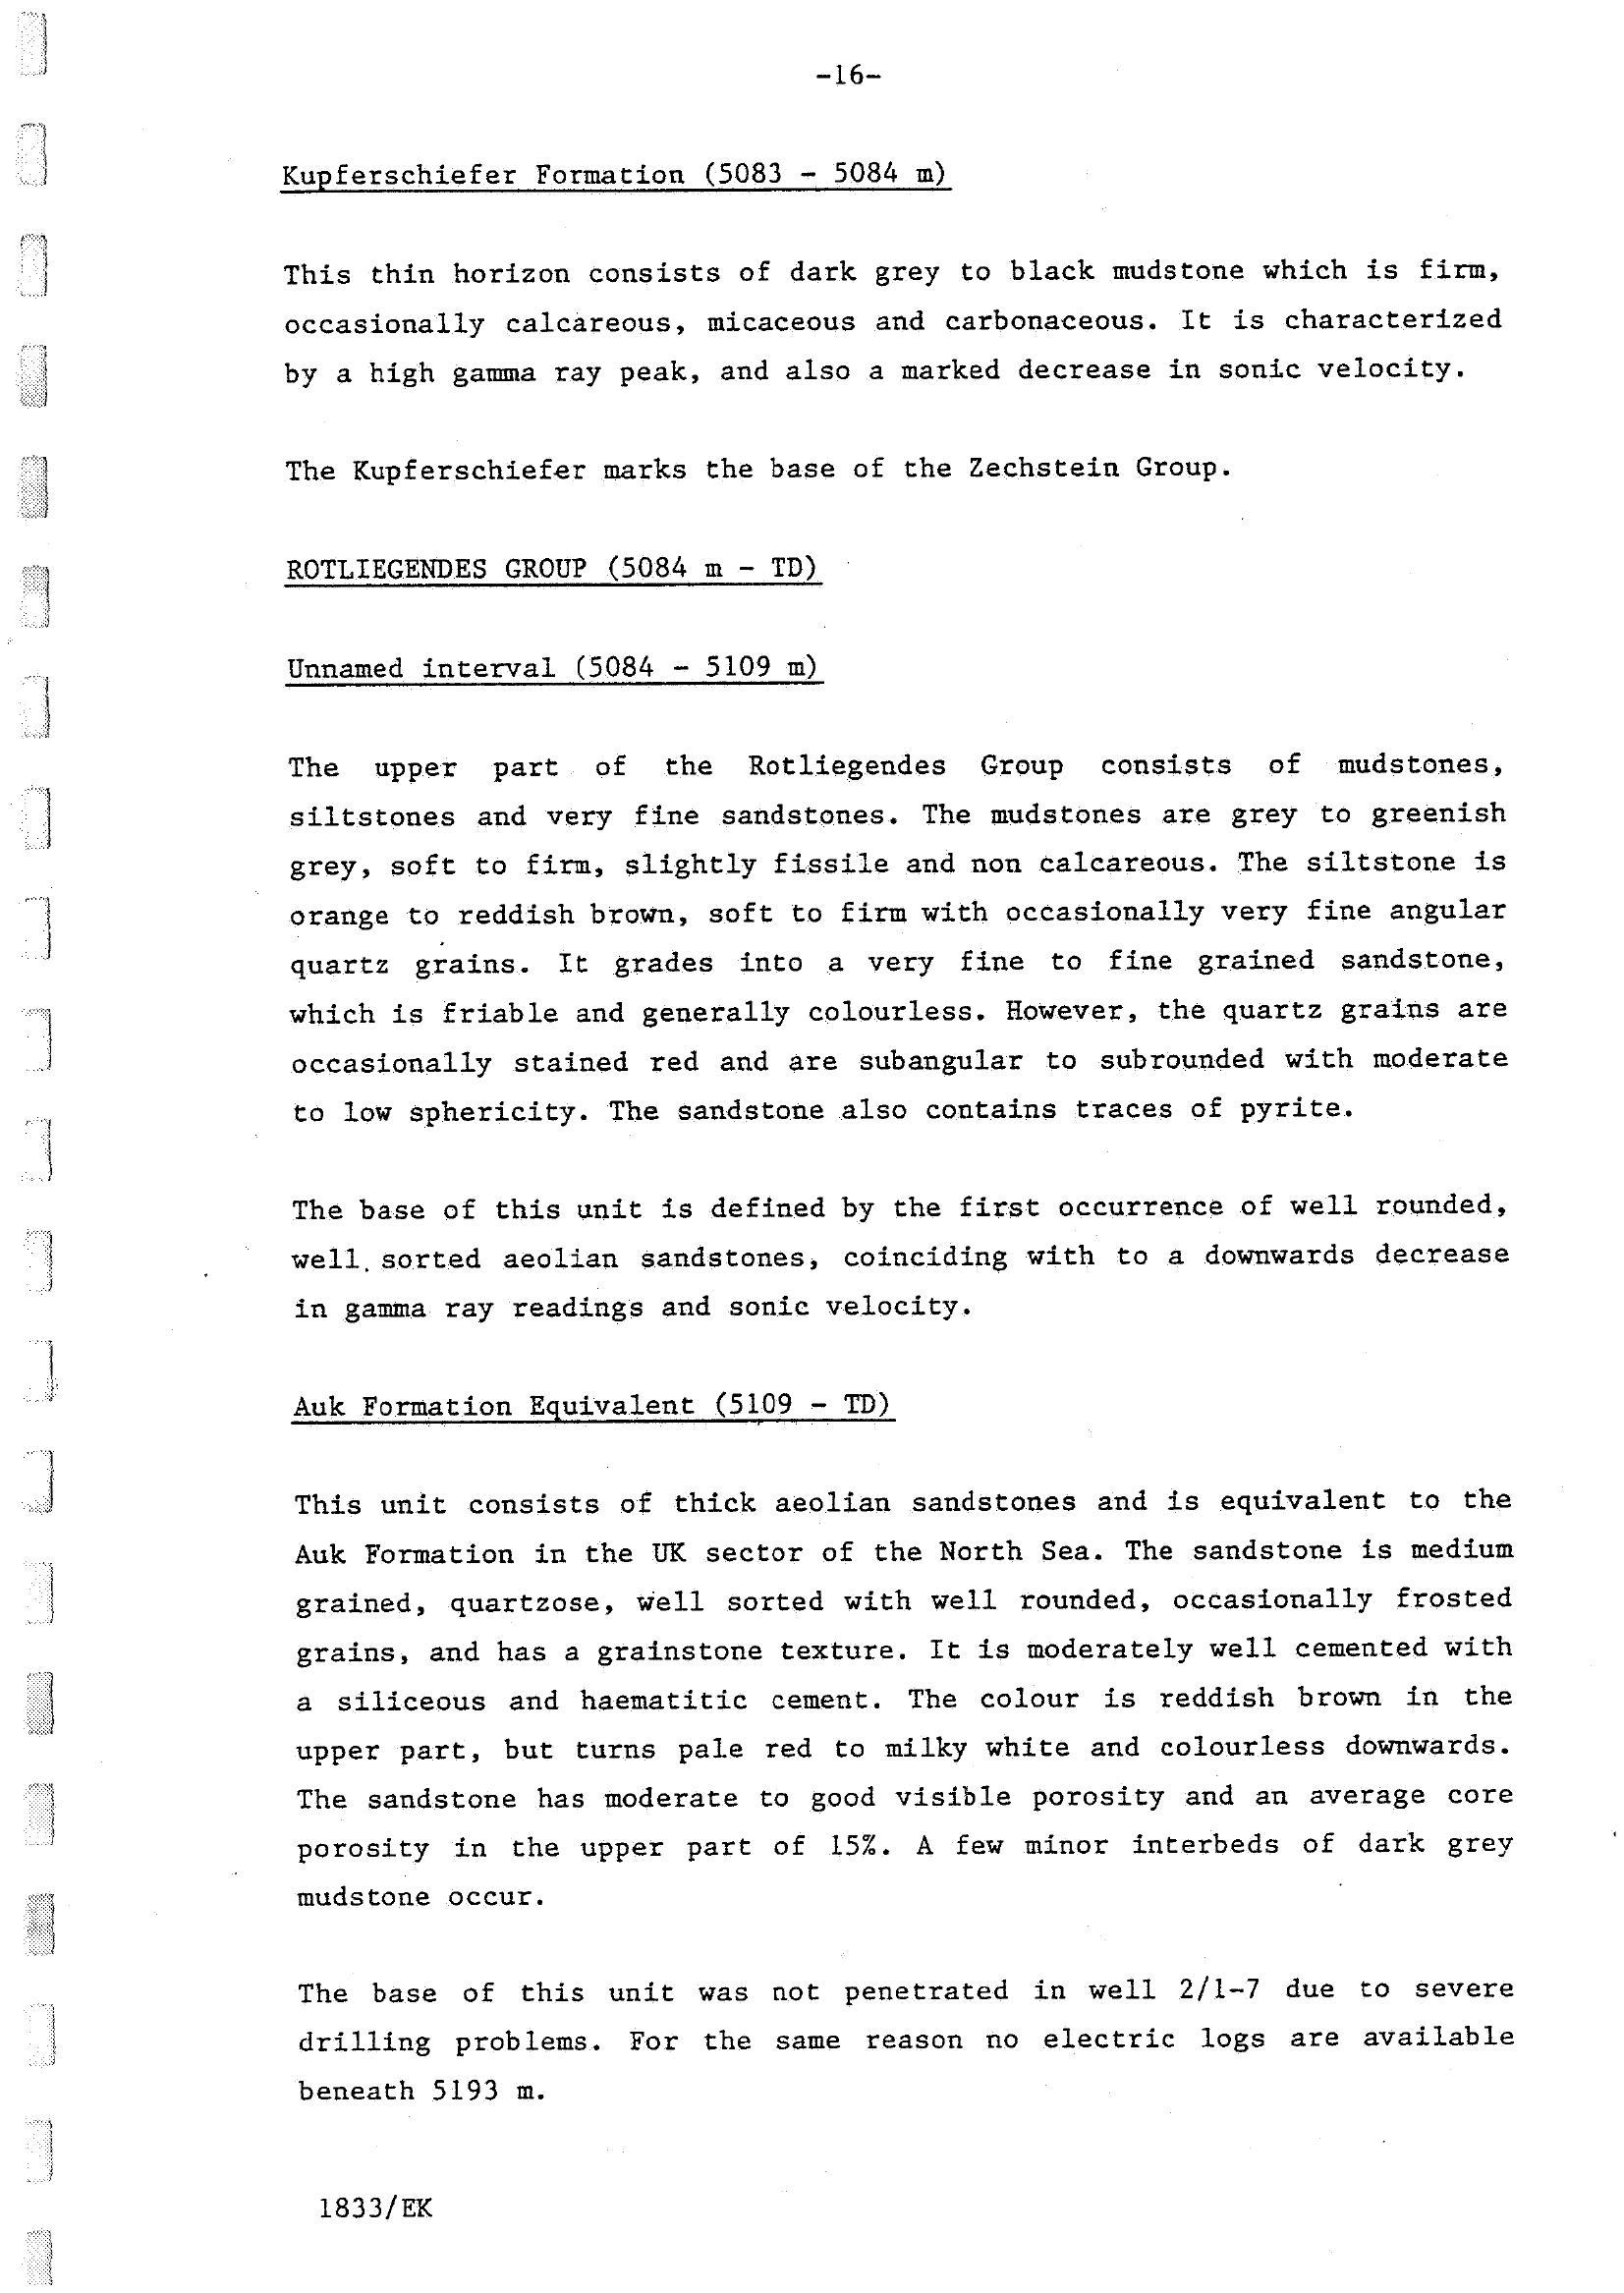text: (250, 123, 1559, 2149)
